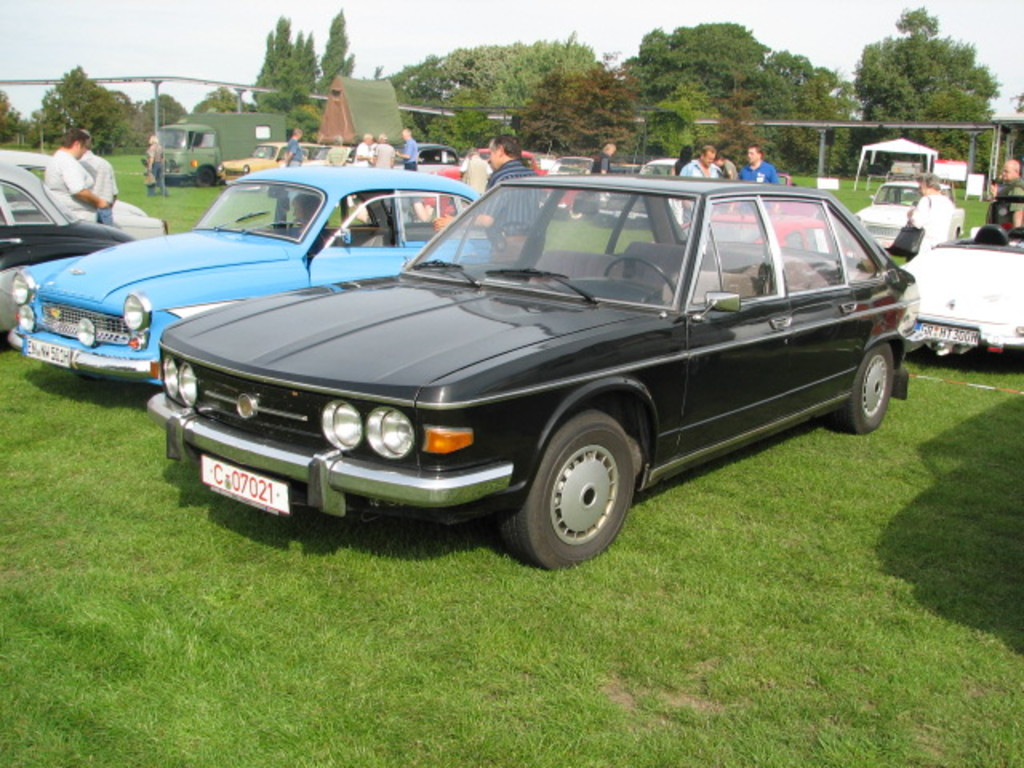Car: (145, 172, 920, 569), (9, 171, 496, 382), (0, 159, 163, 331), (894, 227, 1022, 358), (217, 145, 320, 187)
